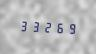nine: (66, 20, 77, 35)
six: (54, 20, 65, 34)
three: (18, 18, 29, 33), (30, 19, 41, 33)
two: (42, 19, 53, 34)
